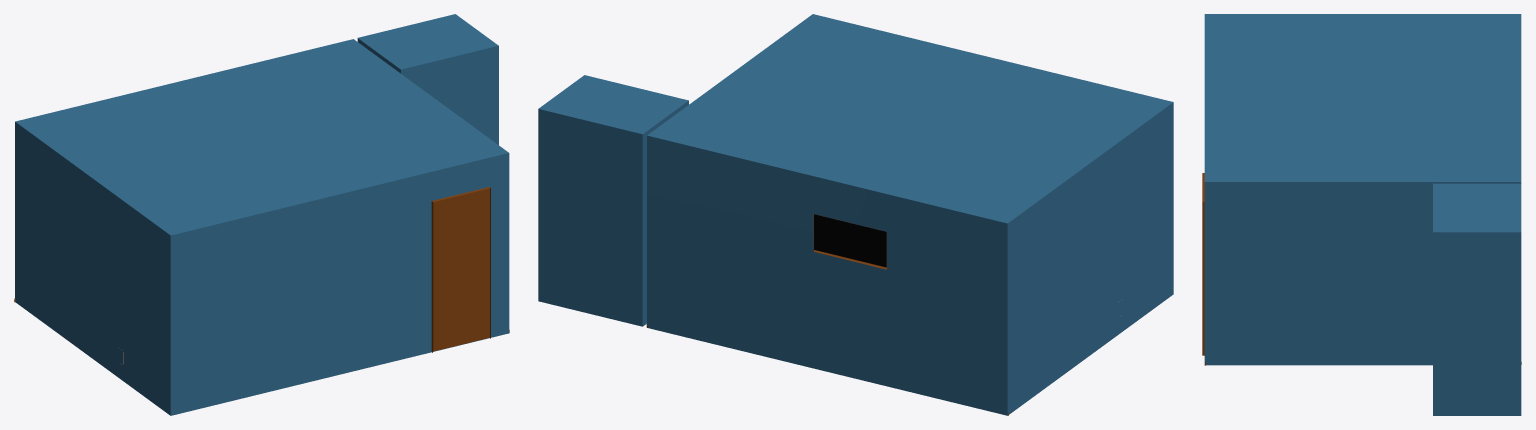
Rendered from room_scene.FBX.
3 renders of one model, left to right at view 1: azimuth 30°, elevation 25°; view 2: azimuth 150°, elevation 25°; view 3: azimuth 270°, elevation 25°, orthographic. The views are drawn at different scales.
Visible parts, largest first — view 1: Box001, door_001, doorFrame002; view 2: Box001, window_card; view 3: Box001, doorFrame002.
Part boxes in pixels (box(x1,y1,x2,y2)): Box001: box(14, 14, 509, 415); door_001: box(433, 188, 489, 351); doorFrame002: box(431, 187, 490, 352); Box001: box(538, 14, 1173, 415); window_card: box(814, 214, 886, 267); Box001: box(1204, 14, 1521, 415); doorFrame002: box(1202, 173, 1204, 355).
Bounding box in the file's own units: 6.24 × 2.44 × 3.84.
